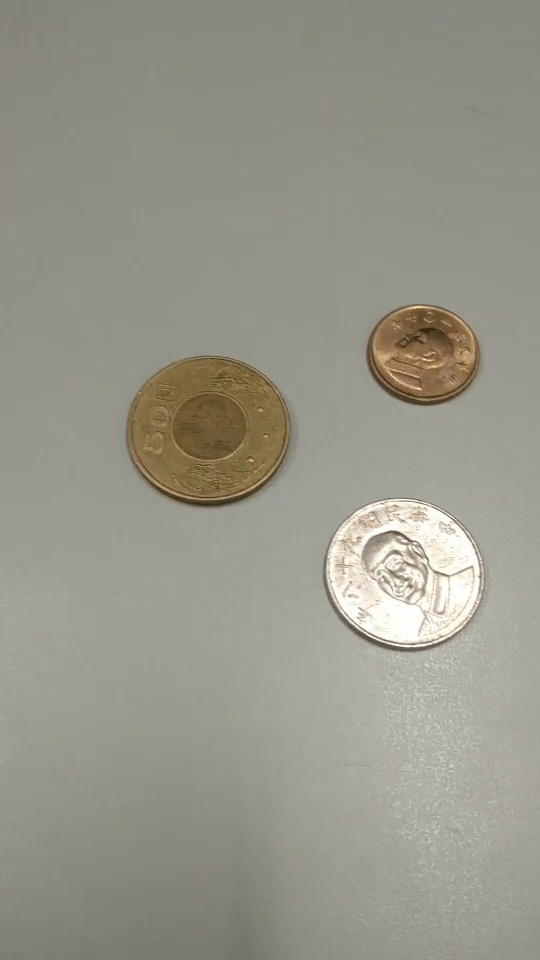NT$ 1: (369, 306, 479, 406)
NT$ 10: (322, 498, 483, 653)
NT$ 50: (129, 355, 291, 508)
